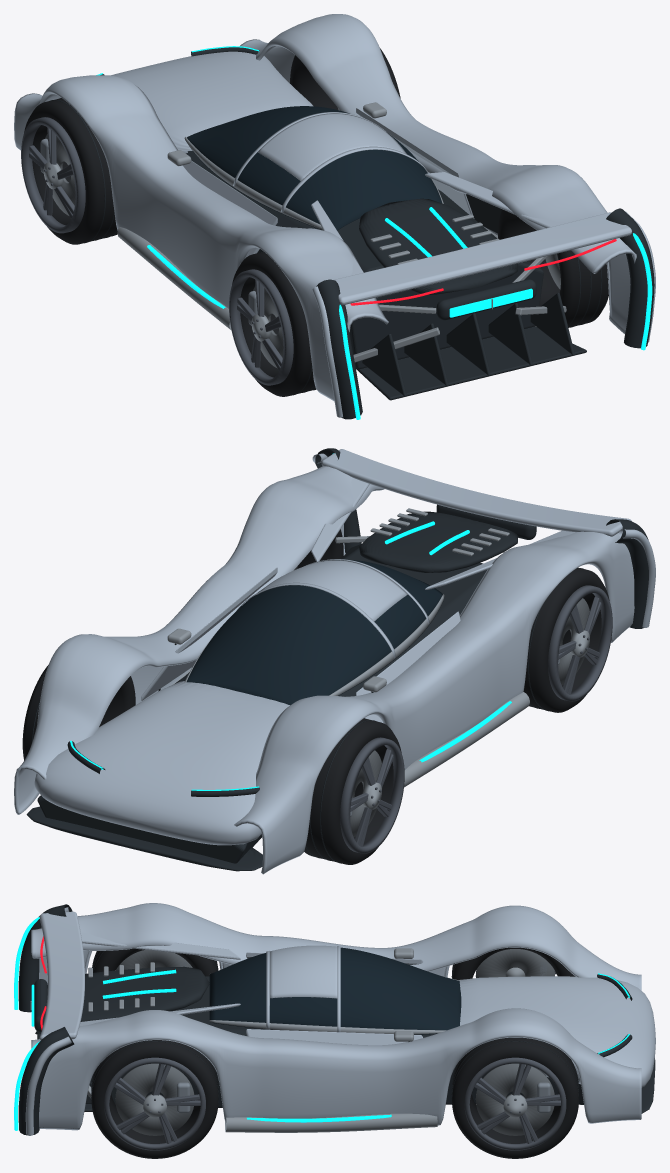
Rendered from Cloudline_C04.fbx.
3 renders of one model, top to bottom at view 1: azimuth 30°, elevation 25°; view 2: azimuth 150°, elevation 25°; view 3: azimuth 270°, elevation 25°, orthographic. The views are drawn at different scales.
Parts seen in each view (by area): view 1: Continuous silver haunch -1, Continuous silver haunch 1, Cabin continuous glazing, Low silver nose, Swept full-width rear bridge, Low carbon chassis, Engine cover, Front tire -1, Cabin flush roof, Recessed diffuser floor, Rear tire -1, Rear tire 1 (+25 smaller); view 2: Continuous silver haunch -1, Low silver nose, Continuous silver haunch 1, Cabin continuous glazing, Swept full-width rear bridge, Engine cover, Front tire -1, Low carbon chassis, Rear tire -1, Cabin flush roof, Front aero lip, Rear rim lip -1 (+15 smaller); view 3: Continuous silver haunch 1, Continuous silver haunch -1, Cabin continuous glazing, Low silver nose, Front tire 1, Rear tire 1, Engine cover, Swept full-width rear bridge, Cabin flush roof, Lower silver sill 1, Front brake rotor 1, Rear brake rotor 1 (+21 smaller).
Boxes of the visible parts, x1,y1,x2,y2 form: Continuous silver haunch -1: [14, 75, 388, 401]; Continuous silver haunch 1: [240, 14, 636, 333]; Cabin continuous glazing: [185, 106, 441, 230]; Low silver nose: [45, 51, 313, 153]; Swept full-width rear bridge: [334, 212, 631, 304]; Low carbon chassis: [186, 151, 543, 369]; Engine cover: [359, 198, 517, 294]; Front tire -1: [24, 98, 117, 244]; Cabin flush roof: [258, 113, 406, 180]; Recessed diffuser floor: [356, 326, 586, 400]; Rear tire -1: [232, 251, 315, 396]; Rear tire 1: [498, 209, 608, 327]; Continuous silver haunch -1: [234, 531, 634, 874]; Low silver nose: [34, 681, 289, 845]; Continuous silver haunch 1: [14, 466, 384, 814]; Cabin continuous glazing: [186, 560, 444, 705]; Swept full-width rear bridge: [321, 449, 631, 536]; Engine cover: [359, 511, 517, 572]; Front tire -1: [304, 718, 401, 864]; Low carbon chassis: [37, 544, 486, 863]; Rear tire -1: [523, 567, 609, 712]; Cabin flush roof: [257, 560, 407, 621]; Front aero lip: [26, 806, 262, 871]; Rear rim lip -1: [548, 585, 612, 701]; Continuous silver haunch 1: [31, 1008, 641, 1130]; Continuous silver haunch -1: [31, 903, 641, 990]; Cabin continuous glazing: [209, 947, 461, 1034]; Low silver nose: [458, 976, 655, 1087]; Front tire 1: [452, 1037, 578, 1158]; Rear tire 1: [91, 1040, 218, 1158]; Engine cover: [80, 966, 209, 1021]; Swept full-width rear bridge: [39, 911, 84, 1040]; Cabin flush roof: [270, 945, 337, 998]; Lower silver sill 1: [225, 1113, 437, 1132]; Front brake rotor 1: [475, 1063, 554, 1135]; Rear brake rotor 1: [115, 1063, 194, 1135].
Bounding box in the file's own units: 265 × 126 × 518.
